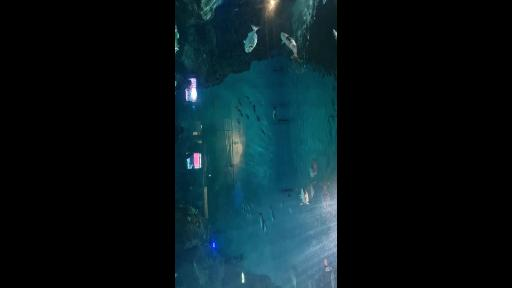Fish: (281, 33, 299, 62), (244, 25, 259, 52), (322, 184, 329, 208), (300, 189, 309, 205), (310, 159, 317, 177), (324, 259, 331, 271), (310, 182, 315, 198), (291, 271, 296, 287), (259, 213, 264, 228), (194, 260, 198, 275), (270, 206, 274, 221), (331, 271, 334, 287), (333, 30, 337, 40), (273, 106, 276, 119), (264, 222, 267, 234), (282, 189, 297, 191), (238, 99, 242, 106), (261, 129, 265, 135), (324, 259, 327, 267), (243, 204, 246, 212), (308, 280, 311, 287), (246, 205, 250, 210), (253, 105, 255, 114), (251, 201, 254, 207), (257, 115, 260, 121), (235, 107, 239, 111), (287, 193, 291, 197), (289, 208, 292, 213), (249, 213, 252, 218), (237, 119, 240, 124), (240, 112, 243, 117), (247, 212, 249, 218), (246, 115, 249, 119), (323, 0, 326, 4), (175, 273, 178, 277), (280, 202, 282, 207), (246, 96, 249, 99), (249, 101, 252, 104)
